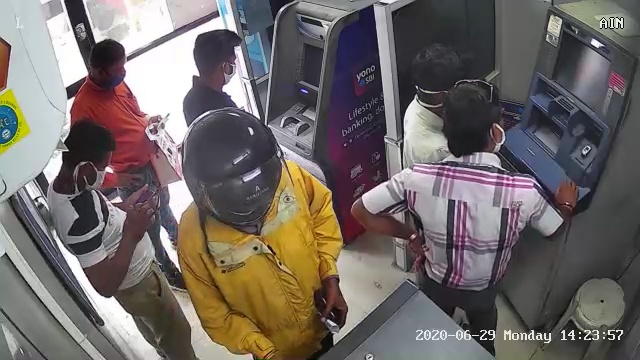helmet: (177, 104, 295, 237)
